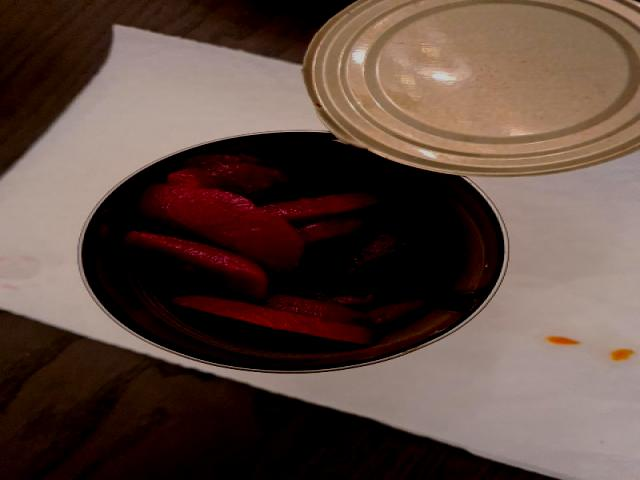kichen waste: (125, 153, 435, 344)
